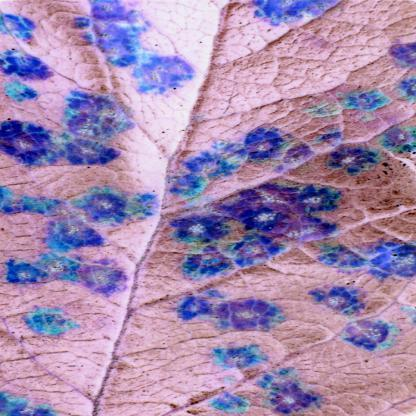Apple rust leaf: (0, 0, 413, 416)
